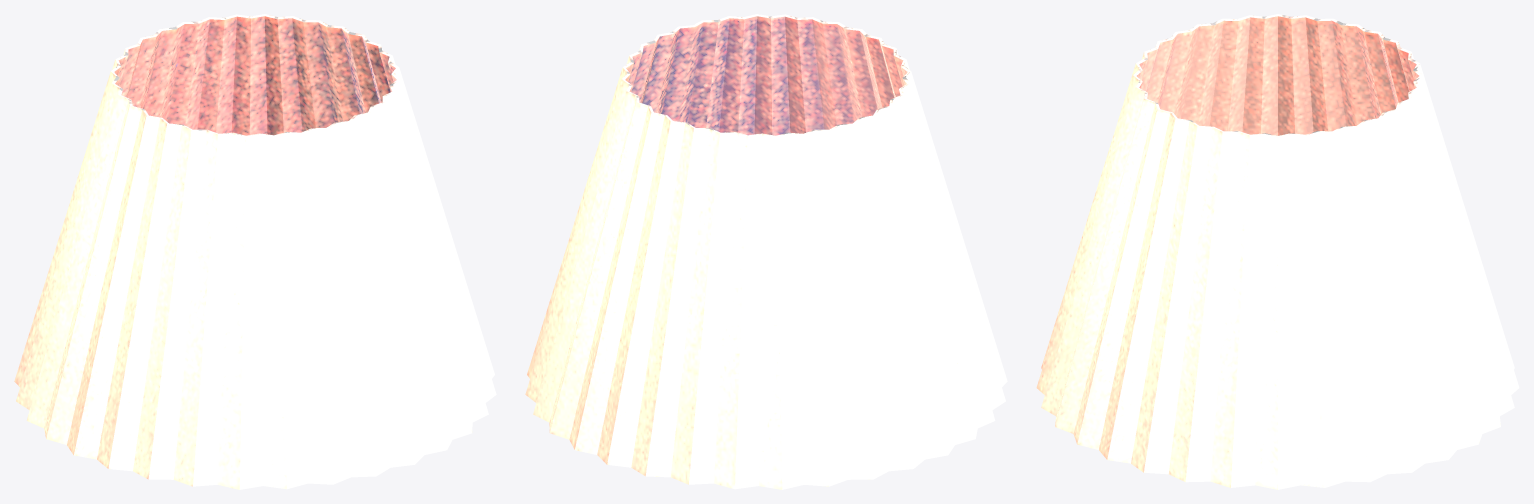
The model's file is lampshade_tissue.glb.
The picture shows the model from 3 angles, left to right: view 1: azimuth 30°, elevation 25°; view 2: azimuth 150°, elevation 25°; view 3: azimuth 270°, elevation 25°; orthographic projection.
Visible parts, largest first — view 1: lampshade_tissue; view 2: lampshade_tissue; view 3: lampshade_tissue.
Part boxes in pixels (bbox=[...]): lampshade_tissue: bbox=[14, 14, 496, 489]; lampshade_tissue: bbox=[525, 14, 1007, 489]; lampshade_tissue: bbox=[1036, 14, 1519, 489].
Size of the model in its own units: 3.36 by 2.41 by 3.36.
